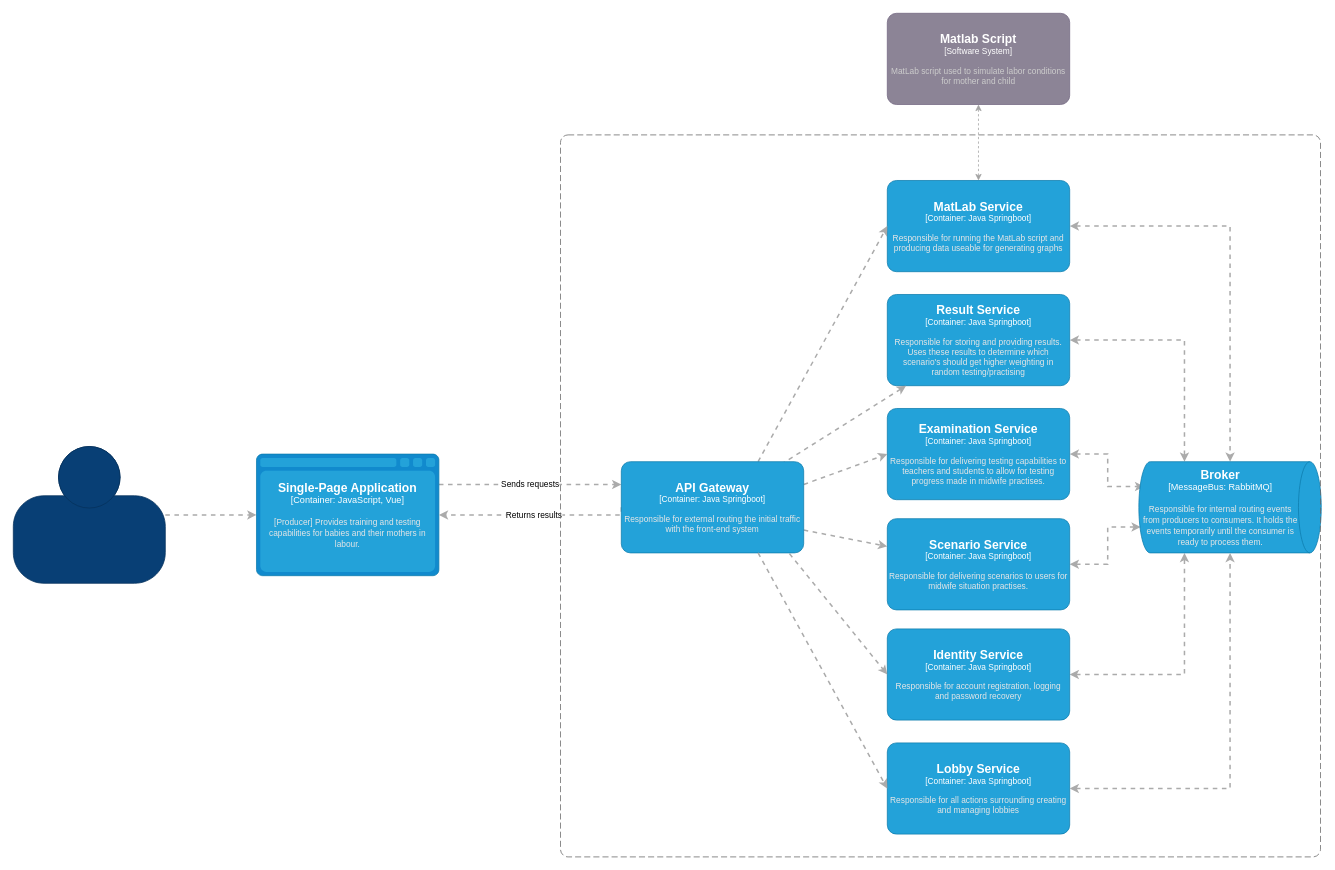
The diagram is 1335 pixels wide and 870 high, and some of its shapes have lost their labels. Here are the shapes that lost their labels. From the top down, the box of each, then its label:
(13, 446, 165, 583): Student [Person] Verloskundige
(560, 134, 1320, 857): Back-end [Babymonitor]
